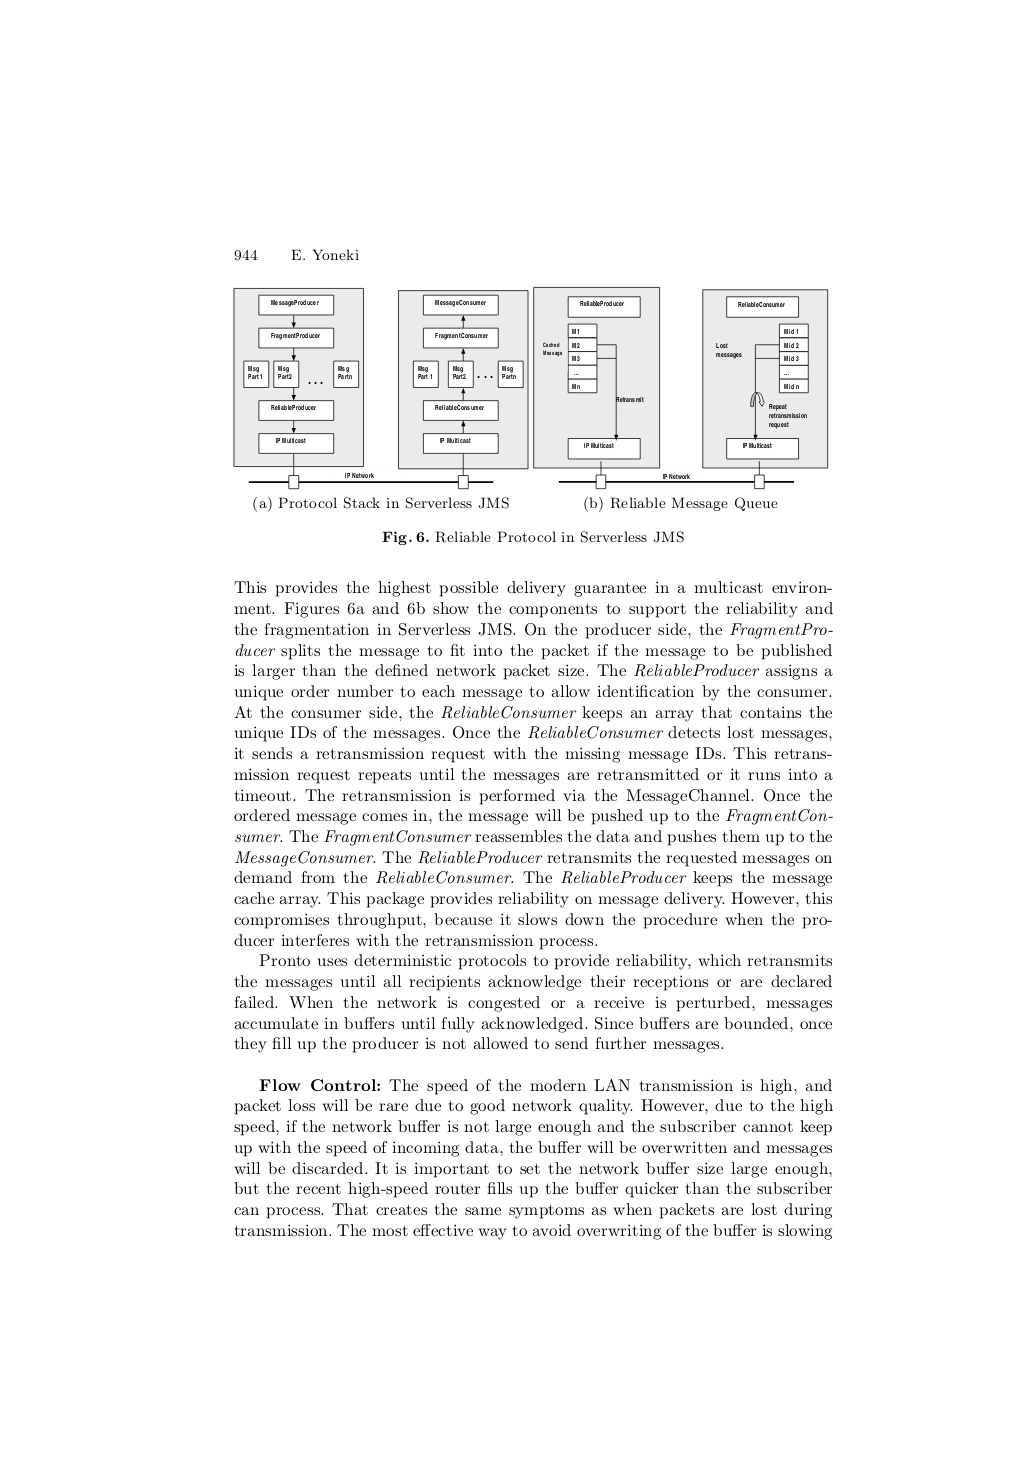figure: (533, 286, 828, 489), (233, 288, 528, 489)
